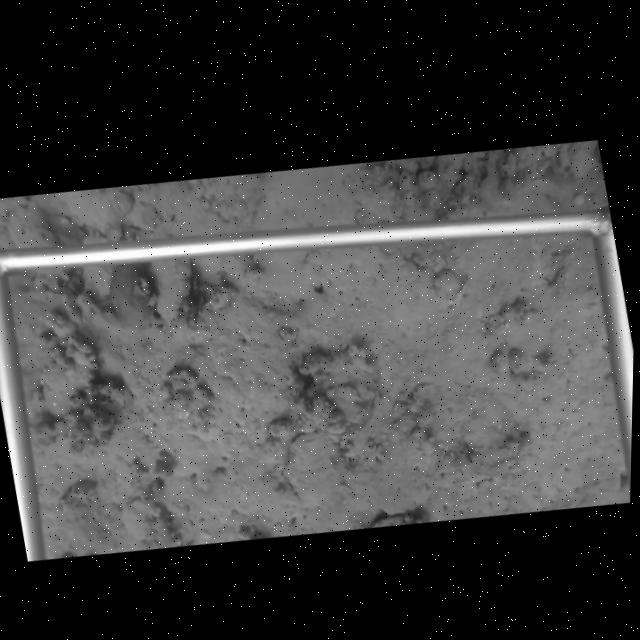Oyster-Closed: (273, 428, 340, 503)
Oyster-Indeterminate: (6, 202, 61, 248)
Oyster-Open: (146, 258, 197, 333)
